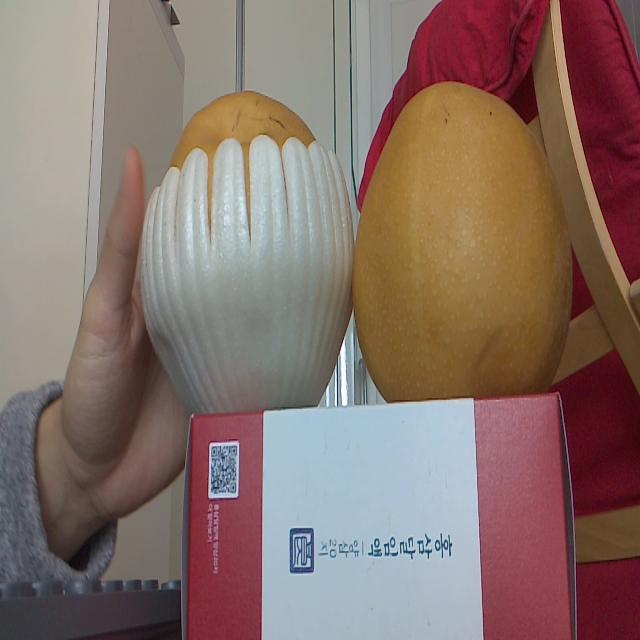pear: (351, 79, 575, 405), (154, 88, 350, 412)
